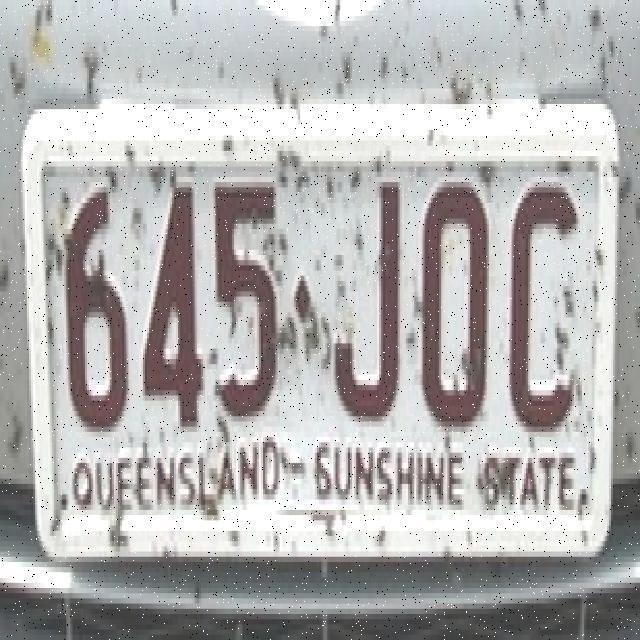LicensePlate: (13, 52, 618, 587)
